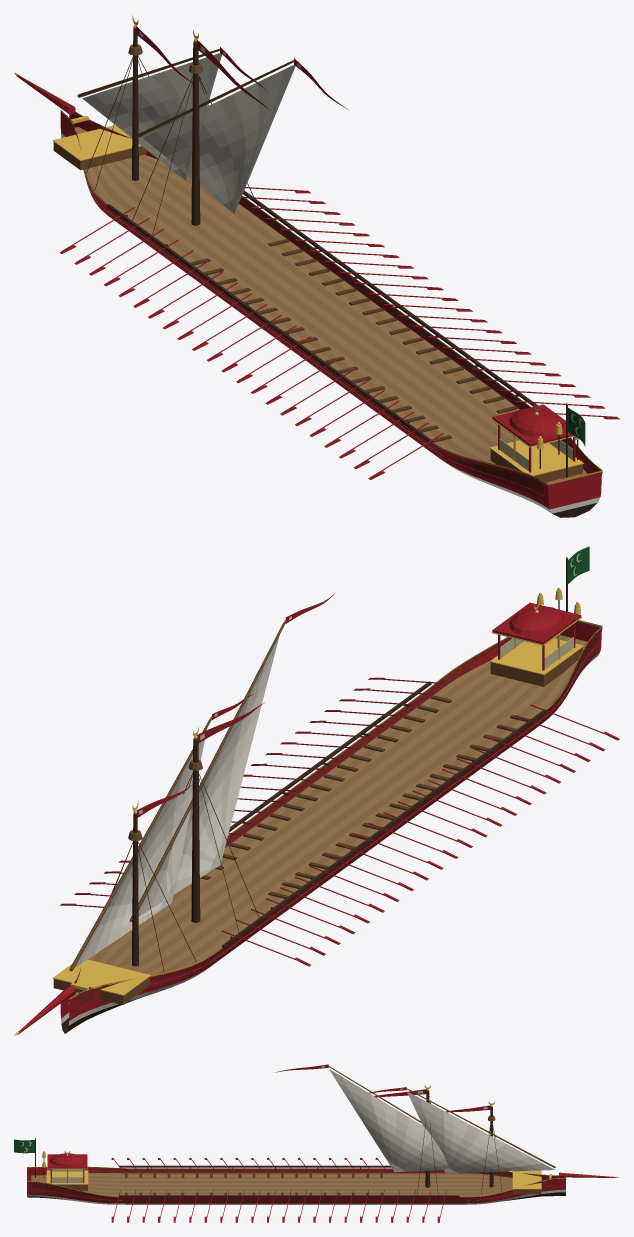
Rendered from kadirga.glb.
3 views of the same model, one above another, from view 1: azimuth 30°, elevation 25°; view 2: azimuth 150°, elevation 25°; view 3: azimuth 270°, elevation 25° (orthographic). The views are drawn at different scales.
Visible parts, largest first — view 1: kadirga.001; view 2: kadirga.001; view 3: kadirga.001.
Part boxes in pixels (bbox=[...]): kadirga.001: bbox=[14, 15, 619, 517]; kadirga.001: bbox=[14, 546, 619, 1035]; kadirga.001: bbox=[14, 1064, 619, 1222].
Bounding box in the file's own units: 21.47 × 20.92 × 85.45.
